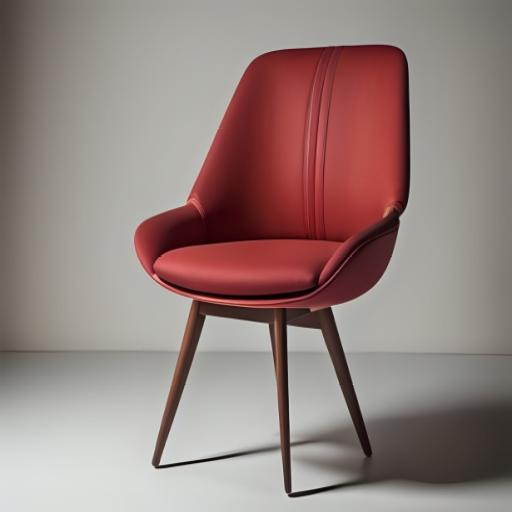chair: (130, 44, 416, 501)
